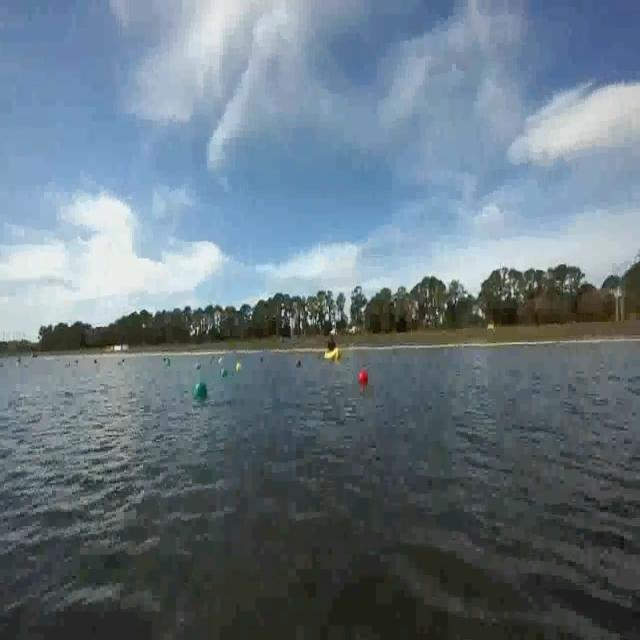green-buoy: (195, 378, 208, 400)
red-buoy: (353, 366, 368, 386)
